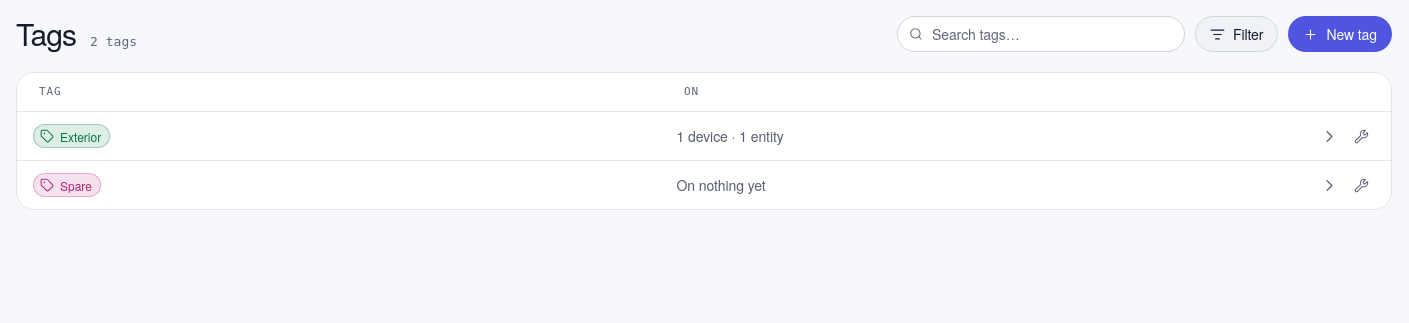
Test: TagsPage › opens a tag to the devices and the entities that carry it
Click the button "Exterior 1 device · 1 entity": {"x": 686, "y": 136} [33,112,1339,160]
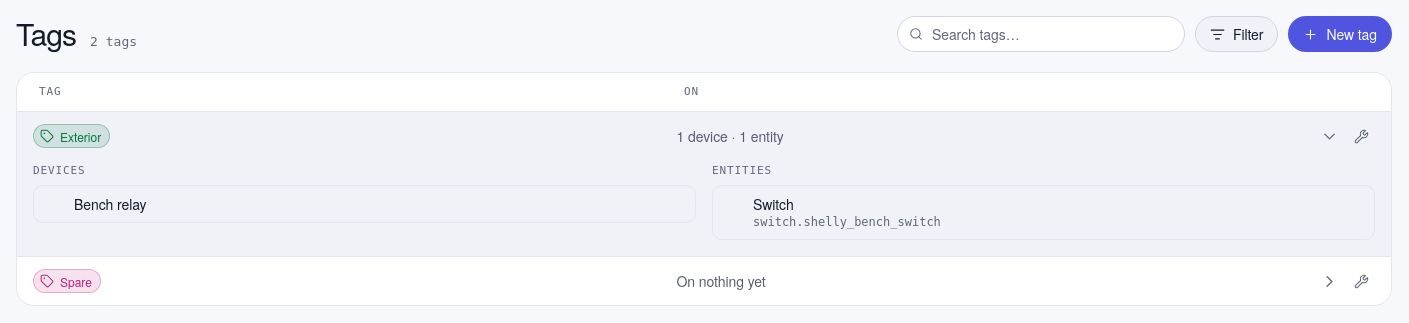
Check: the text "Switch" is shown, box [753,194,794,214]
Check: the text "switch.shelly_bench_switch" is shown, box [753,214,941,231]
